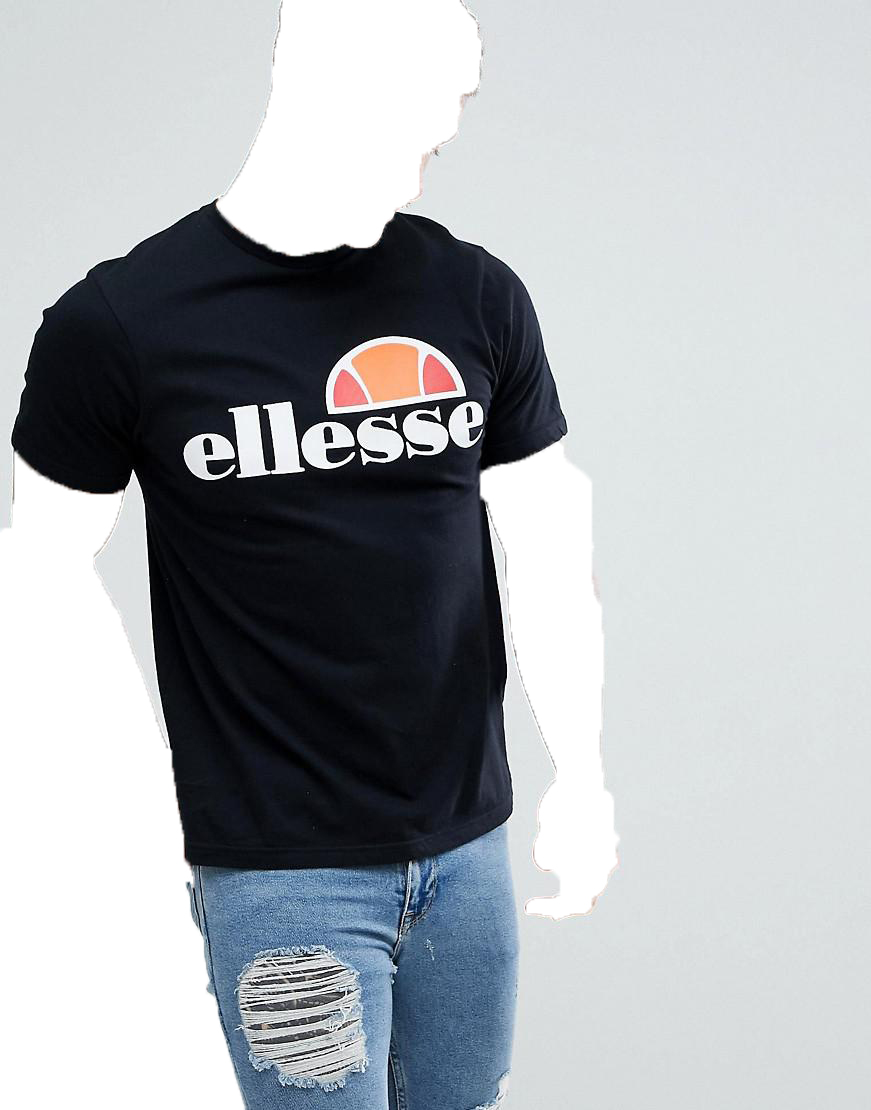teeshirt: (8, 198, 613, 866)
